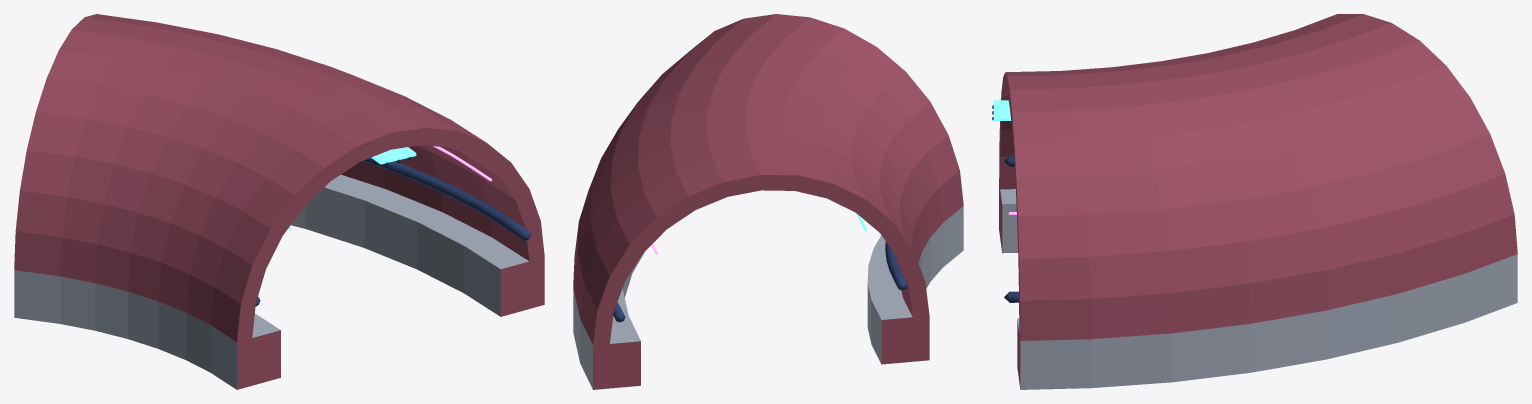
Rendered from W1_Tunnel_Curve45.fbx.
3 views of the same model, side by side, from view 1: azimuth 30°, elevation 25°; view 2: azimuth 150°, elevation 25°; view 3: azimuth 270°, elevation 25° (orthographic). The views are drawn at different scales.
Parts seen in each view (by area): view 1: W1_Tunnel_Curve45; view 2: W1_Tunnel_Curve45; view 3: W1_Tunnel_Curve45.
Part boxes in pixels (x1,y1,x2,y2): W1_Tunnel_Curve45: [14, 14, 544, 389]; W1_Tunnel_Curve45: [573, 14, 963, 389]; W1_Tunnel_Curve45: [992, 14, 1517, 389].
Size of the model in its own units: 18.07 by 9 by 19.46.
